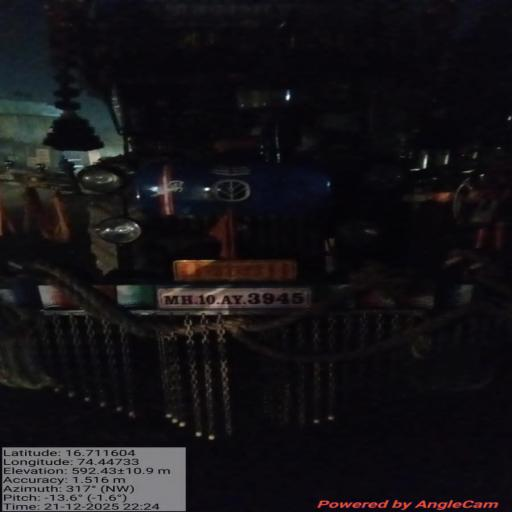number_plate: (152, 282, 332, 316)
